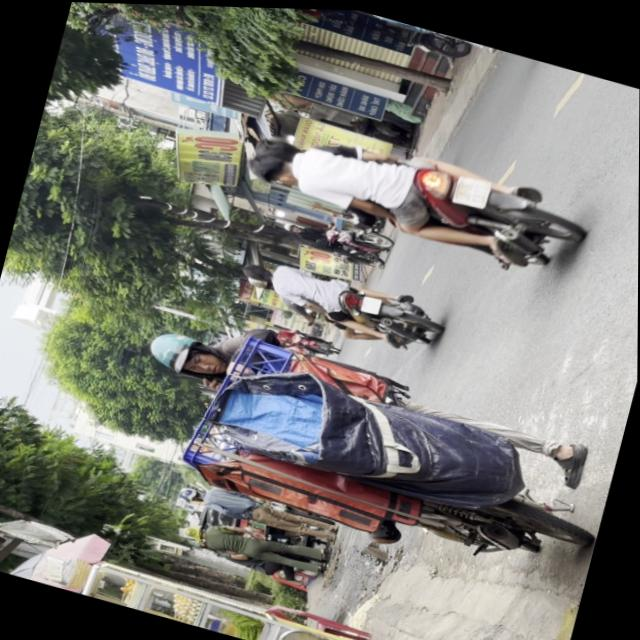licenseplate: (233, 102, 591, 281), (229, 244, 446, 358)
motorcyclist: (244, 146, 301, 187), (254, 129, 302, 161), (239, 258, 272, 281)
nohelmet: (450, 170, 490, 207), (359, 291, 380, 312)
